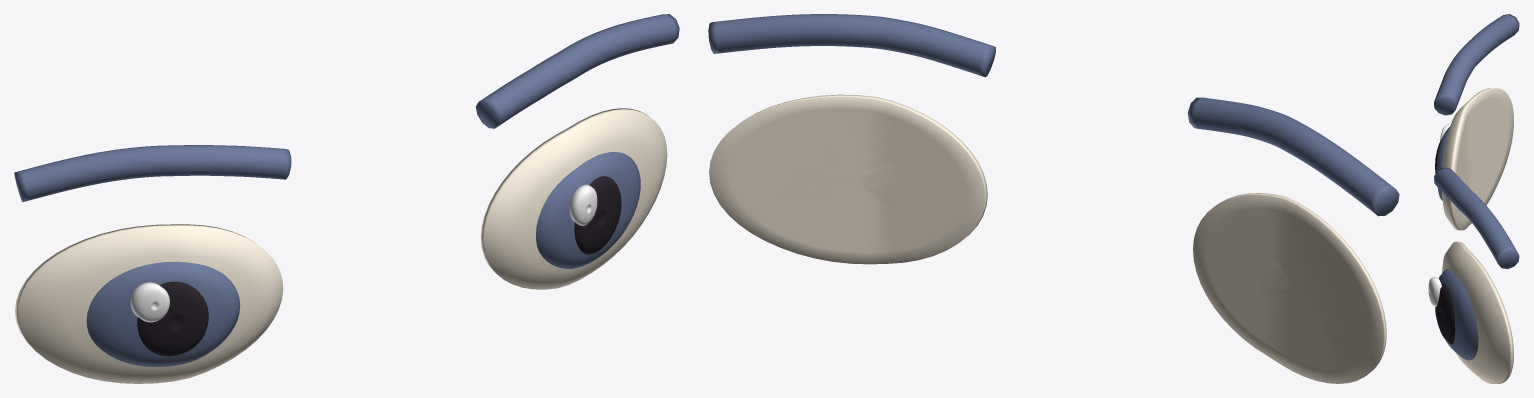
Rendered from 3HT-feminino.glb.
3 renders of one model, left to right at view 1: azimuth 30°, elevation 25°; view 2: azimuth 150°, elevation 25°; view 3: azimuth 270°, elevation 25°, orthographic. The views are drawn at different scales.
Visible parts, largest first — view 1: sclera--1, sclera-1, brow--1, iris--1, brow-1, iris-1, pupil--1, pupil-1, highlight--1, highlight-1; view 2: sclera-1, sclera--1, brow-1, brow--1; view 3: sclera--1, sclera-1, brow--1, brow-1, iris-1, pupil-1, highlight-1, iris--1.
Boxes of the visible parts, bbox=[...] form: sclera--1: bbox=[15, 224, 283, 383]; sclera-1: bbox=[480, 108, 667, 289]; brow--1: bbox=[14, 145, 291, 201]; iris--1: bbox=[86, 261, 240, 366]; brow-1: bbox=[476, 14, 679, 128]; iris-1: bbox=[536, 152, 640, 269]; pupil--1: bbox=[137, 281, 208, 356]; pupil-1: bbox=[574, 176, 621, 254]; highlight--1: bbox=[130, 282, 169, 322]; highlight-1: bbox=[569, 184, 597, 225]; sclera-1: bbox=[709, 94, 987, 264]; sclera--1: bbox=[1193, 193, 1386, 383]; brow-1: bbox=[708, 14, 995, 77]; brow--1: bbox=[1187, 97, 1399, 216]; sclera--1: bbox=[1442, 88, 1513, 230]; sclera-1: bbox=[1442, 241, 1513, 383]; brow--1: bbox=[1434, 14, 1519, 115]; brow-1: bbox=[1434, 167, 1519, 269]; iris-1: bbox=[1439, 269, 1478, 360]; pupil-1: bbox=[1435, 284, 1455, 344]; highlight-1: bbox=[1428, 277, 1441, 306]; iris--1: bbox=[1436, 126, 1450, 200].
Size of the model in its own units: 0.0292 by 0.00998 by 0.00471.
